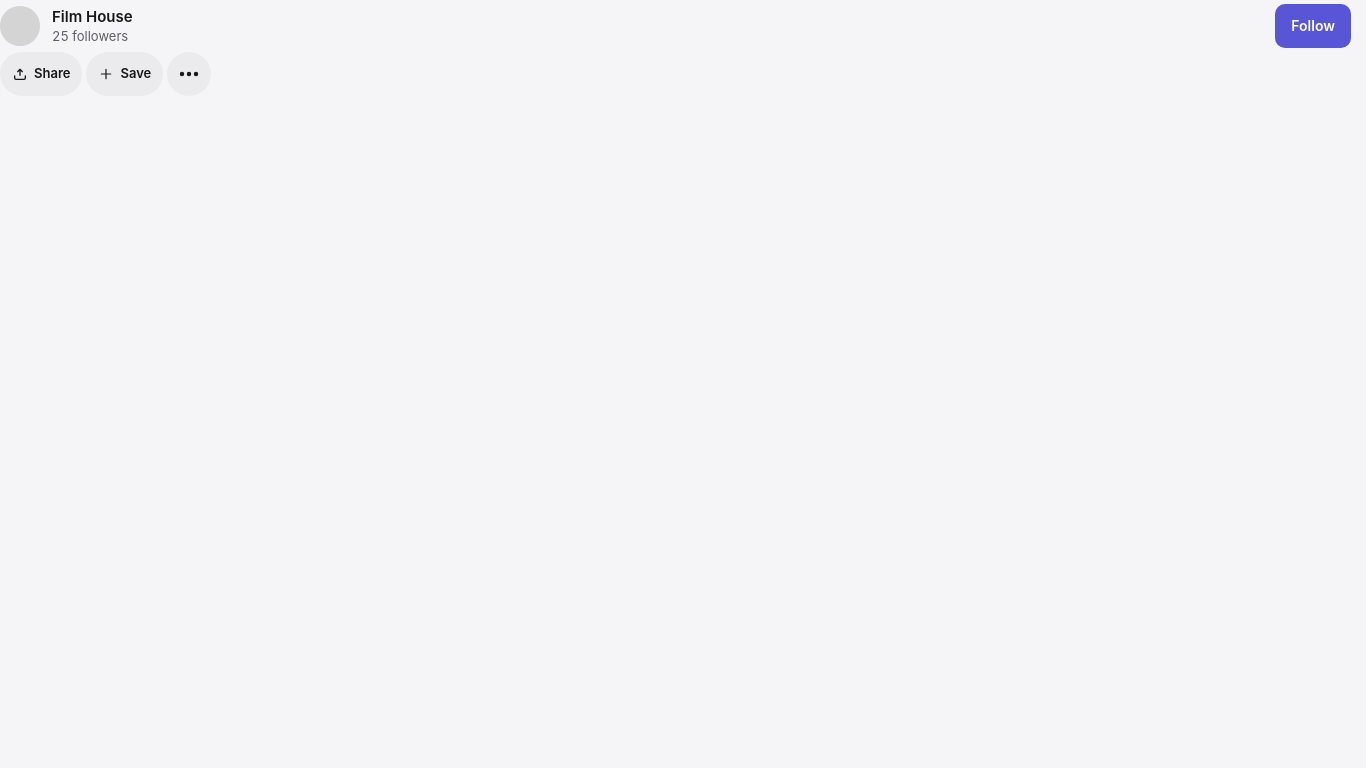
Test: keeps Report in More with the same sign-in gate
Click the button named "More actions" at [189, 74], box [167,52,211,96]
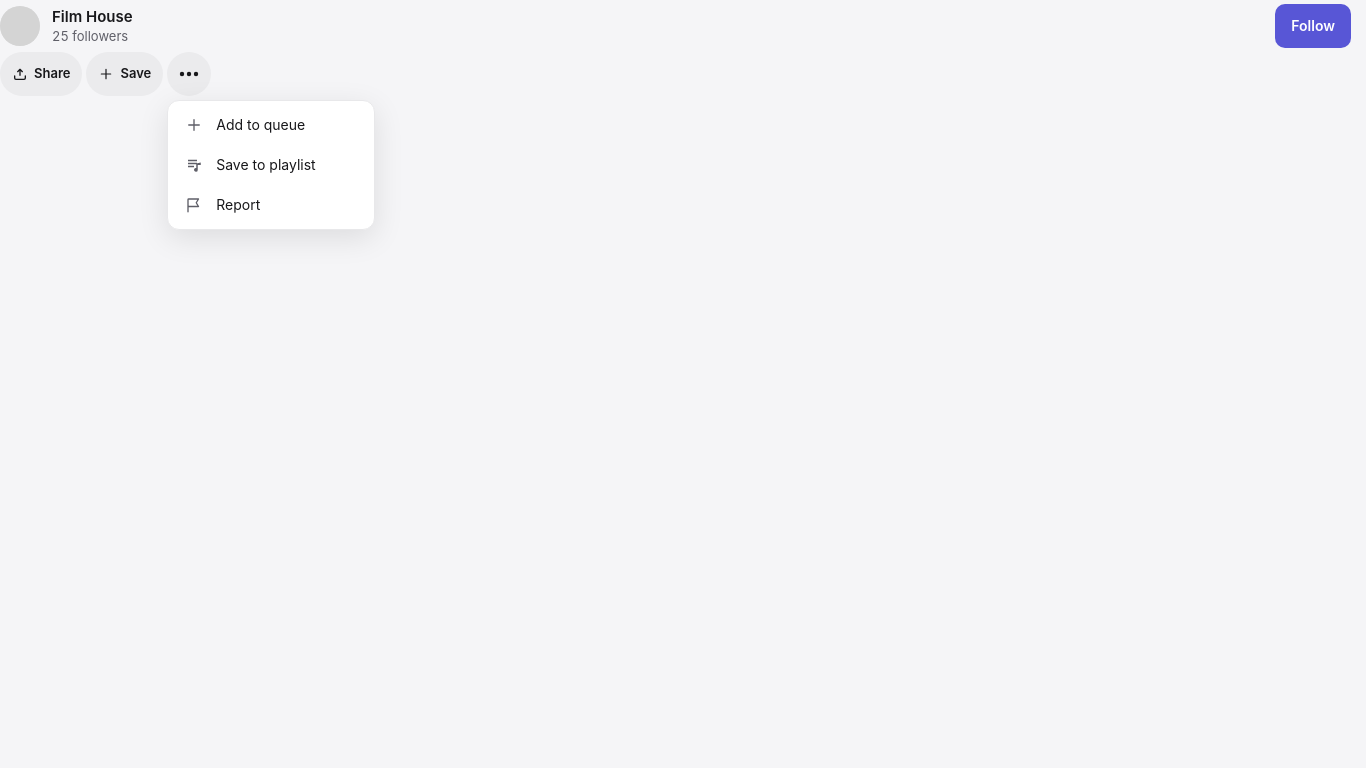
Click the menu item "Report" at [271, 205], box [172,185,370,225]
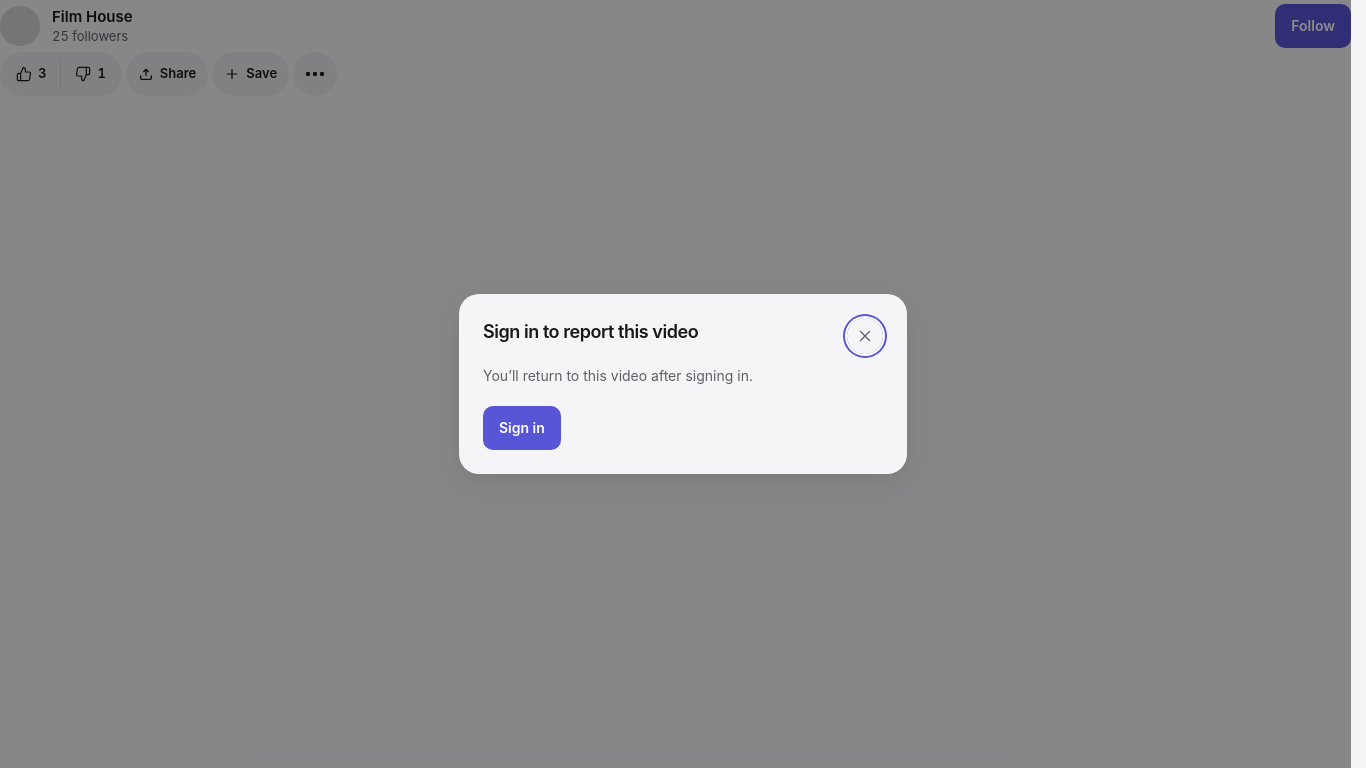
Now the dialog "Sign in to report this video" is shown, box [459,294,907,474]
